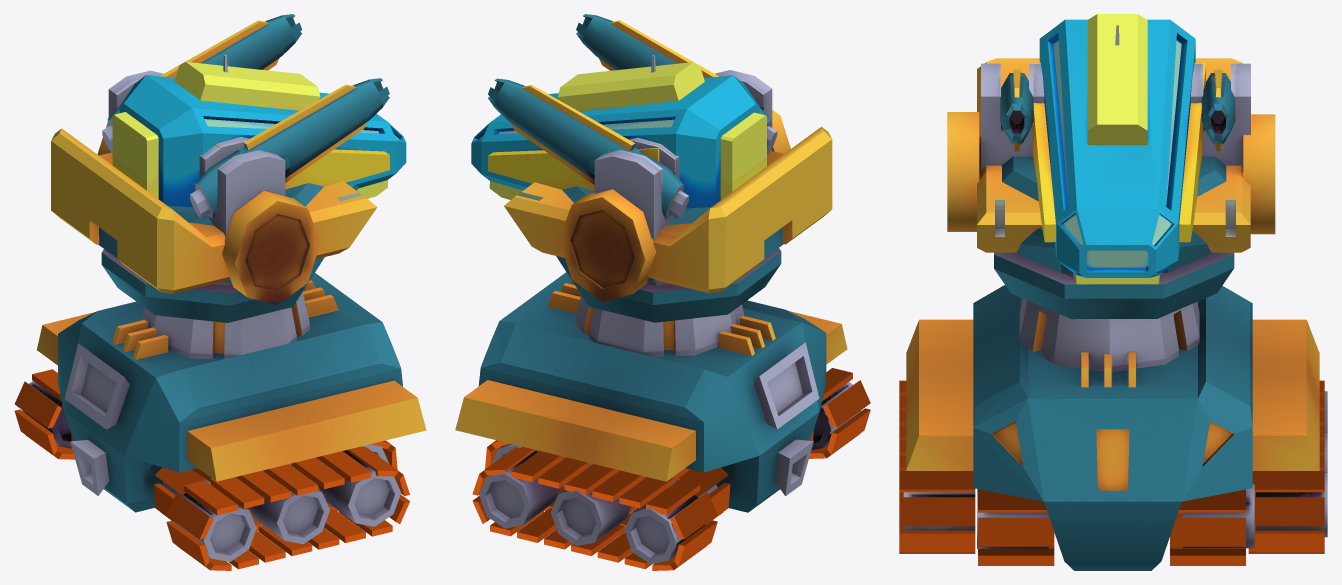
File: Player_Idle_2_Upgrade5.obj
3 views of the same model, side by side, from view 1: azimuth 30°, elevation 25°; view 2: azimuth 150°, elevation 25°; view 3: azimuth 270°, elevation 25° (orthographic). The views are drawn at different scales.
Visible parts, largest first — view 1: Object008, Box020, Object014, Box018, Box019, Box017; view 2: Object008, Box019, Object014, Box018, Box020, Box016; view 3: Object008, Box020, Box019, Box017, Box016, Object014, Box018, Box009.
Part boxes in pixels (box(x1,y1,x2,y2)): Object008: box(37, 62, 426, 512); Box020: box(166, 446, 409, 570); Object014: box(102, 14, 389, 218); Box018: box(22, 381, 401, 561); Box019: box(14, 369, 74, 459); Box017: box(154, 440, 397, 530); Object008: box(455, 62, 847, 512); Box019: box(472, 446, 717, 570); Object014: box(488, 14, 777, 220); Box018: box(479, 382, 861, 564); Box020: box(809, 368, 870, 458); Box016: box(485, 440, 730, 528); Object008: box(906, 14, 1319, 570); Box020: box(899, 380, 975, 553); Box019: box(1248, 380, 1324, 553); Box017: box(978, 489, 1054, 565); Box016: box(1170, 489, 1245, 565); Object014: box(1000, 69, 1235, 151); Box018: box(903, 391, 1327, 537); Box009: box(977, 484, 1254, 548).
Size of the model in its own units: 65.77 by 86.08 by 68.55.
5 materials, 3 textured.
